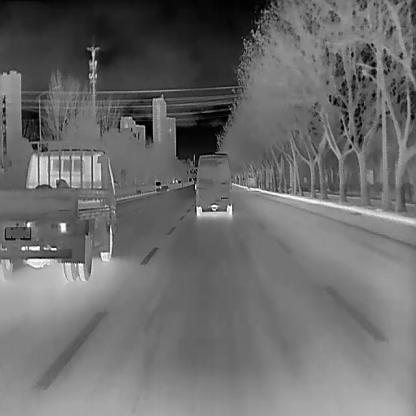car: (194, 152, 232, 214), (246, 176, 254, 186), (154, 180, 161, 188)
truck: (0, 139, 125, 280)
